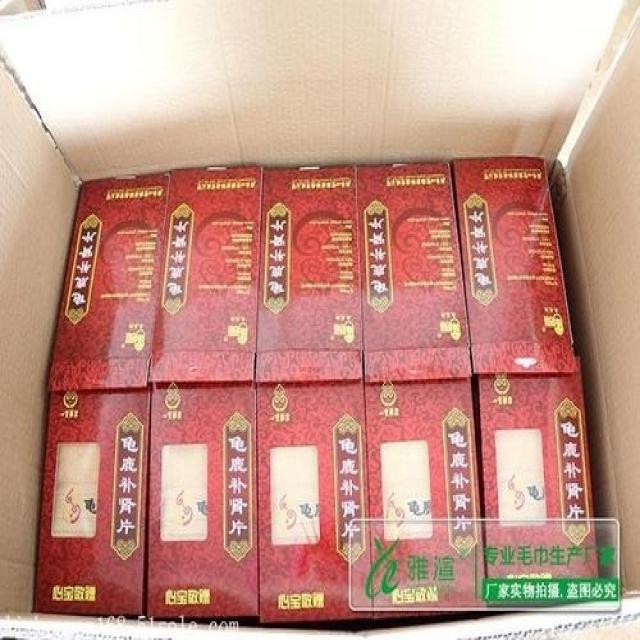box: (0, 0, 639, 638), (472, 373, 598, 611), (366, 381, 490, 618), (257, 381, 375, 622), (450, 155, 579, 375), (44, 171, 170, 390), (143, 386, 260, 618), (34, 386, 150, 615), (357, 161, 471, 380), (148, 167, 261, 386), (254, 166, 364, 386)
